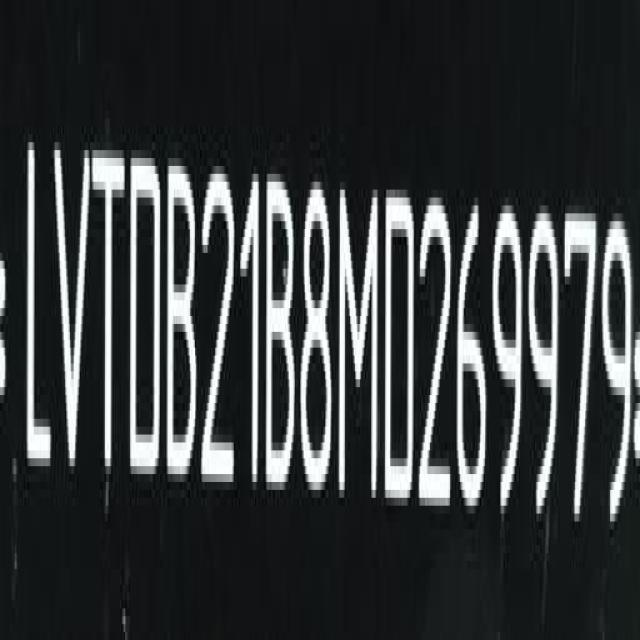1: (239, 164, 261, 497)
2: (420, 193, 454, 520), (204, 164, 237, 499)
6: (454, 199, 486, 522)
7: (566, 205, 598, 538)
8: (302, 175, 335, 495)
9: (603, 220, 638, 539), (492, 203, 526, 526), (528, 204, 560, 530)
B: (169, 158, 203, 493), (266, 174, 296, 500)
D: (130, 148, 164, 486), (385, 183, 417, 508)
L: (21, 130, 52, 491)
M: (340, 177, 381, 503)
T: (95, 141, 127, 489)
V: (50, 138, 92, 490)
